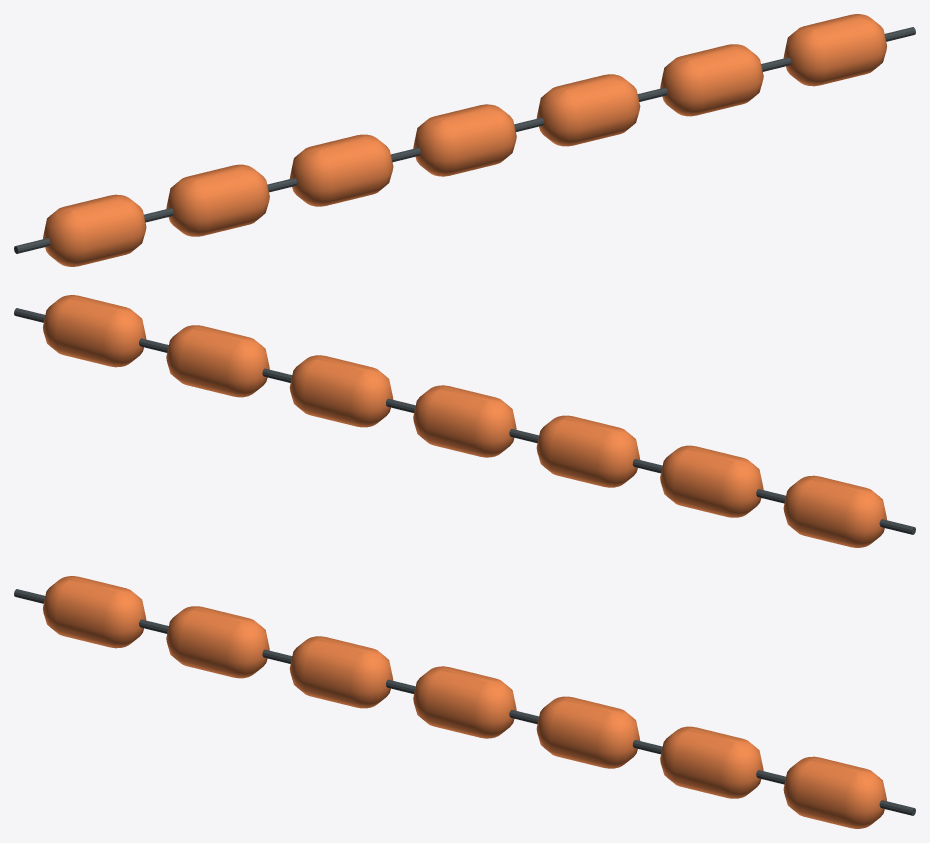
Rendered from powerboat-racing-and-launch-ramp-spectator-barrier-flo-05fabd09__22288.glb.
3 renders of one model, top to bottom at view 1: azimuth 30°, elevation 25°; view 2: azimuth 150°, elevation 25°; view 3: azimuth 330°, elevation 25°, orthographic.
Visible parts, largest first — view 1: spectator-barrier-float; view 2: spectator-barrier-float; view 3: spectator-barrier-float.
Boxes of the visible parts, <box> form: spectator-barrier-float: <box>14,14,915,266</box>; spectator-barrier-float: <box>14,295,915,547</box>; spectator-barrier-float: <box>14,576,915,828</box>.
Size of the model in its own units: 4 by 0.2298 by 0.2298.
